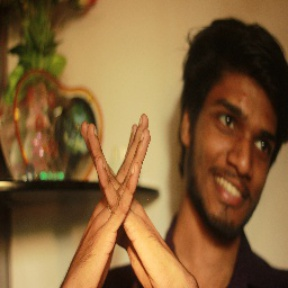W: (70, 108, 174, 282)
